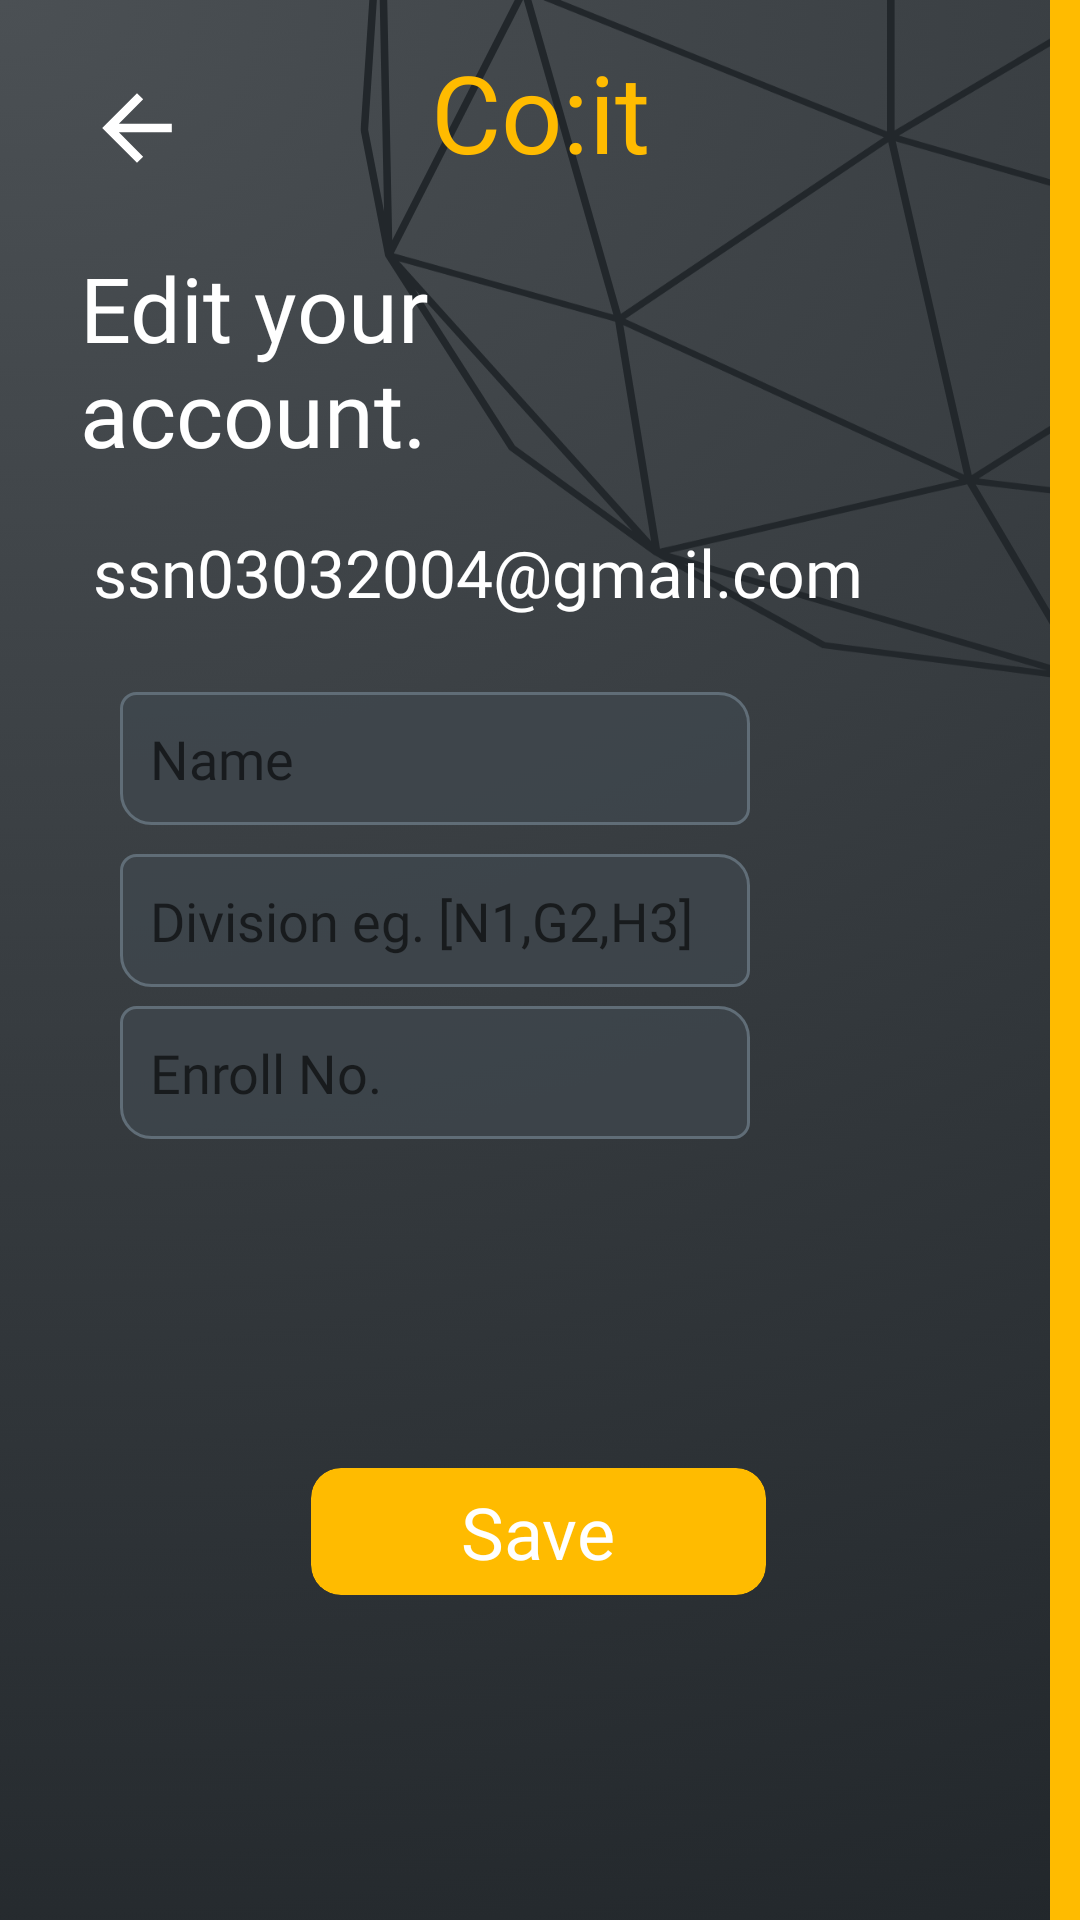

Screen size 1080px x 1920px. Icon name, then its center in pixels as (x,y):
lefta: (137,128)
